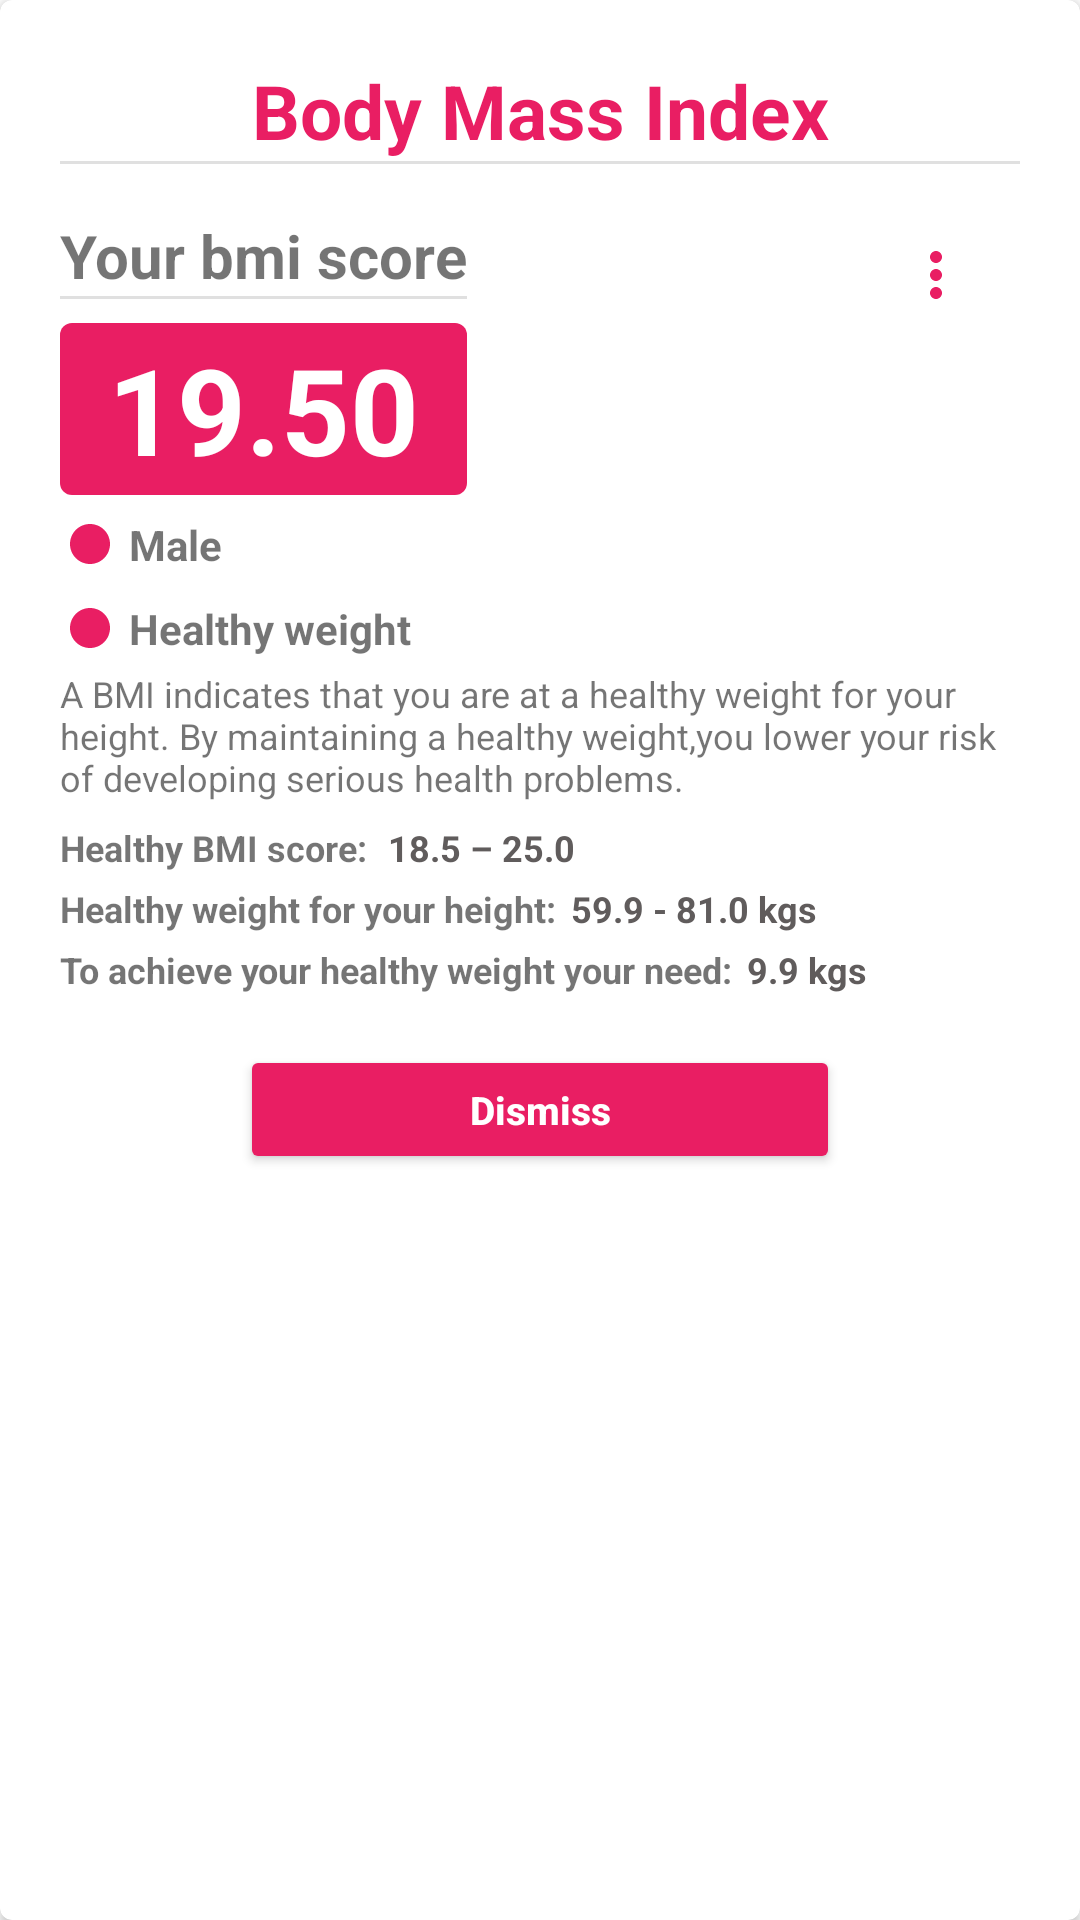

Screen size 1080x1920. Icon name, then its center in pixels as (x,y):
more vert: (936,275)
